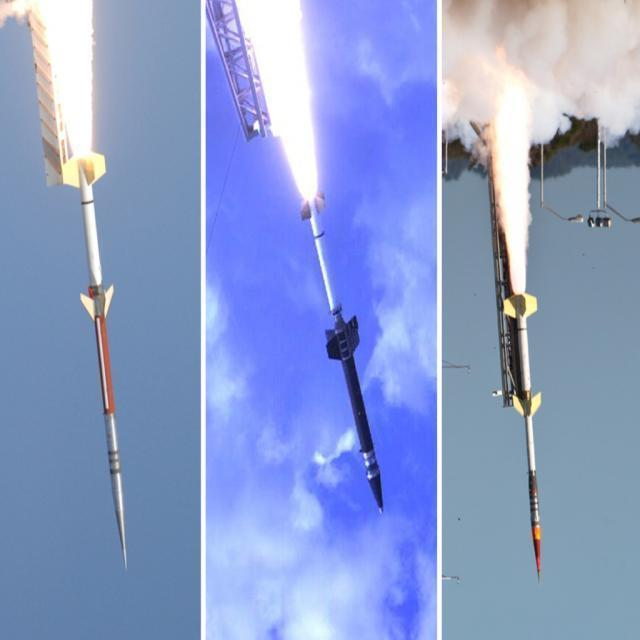missile: (56, 137, 134, 570), (291, 182, 390, 512), (493, 280, 553, 581)
